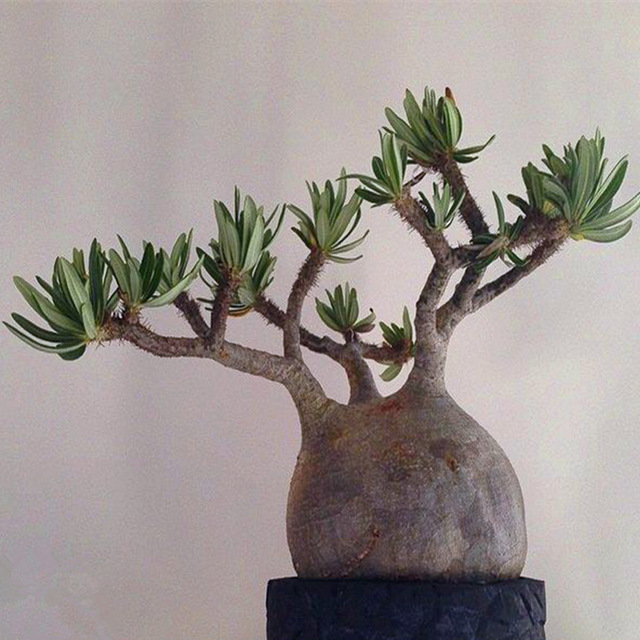Pachypodium rosulatum: (98, 160, 620, 592)
